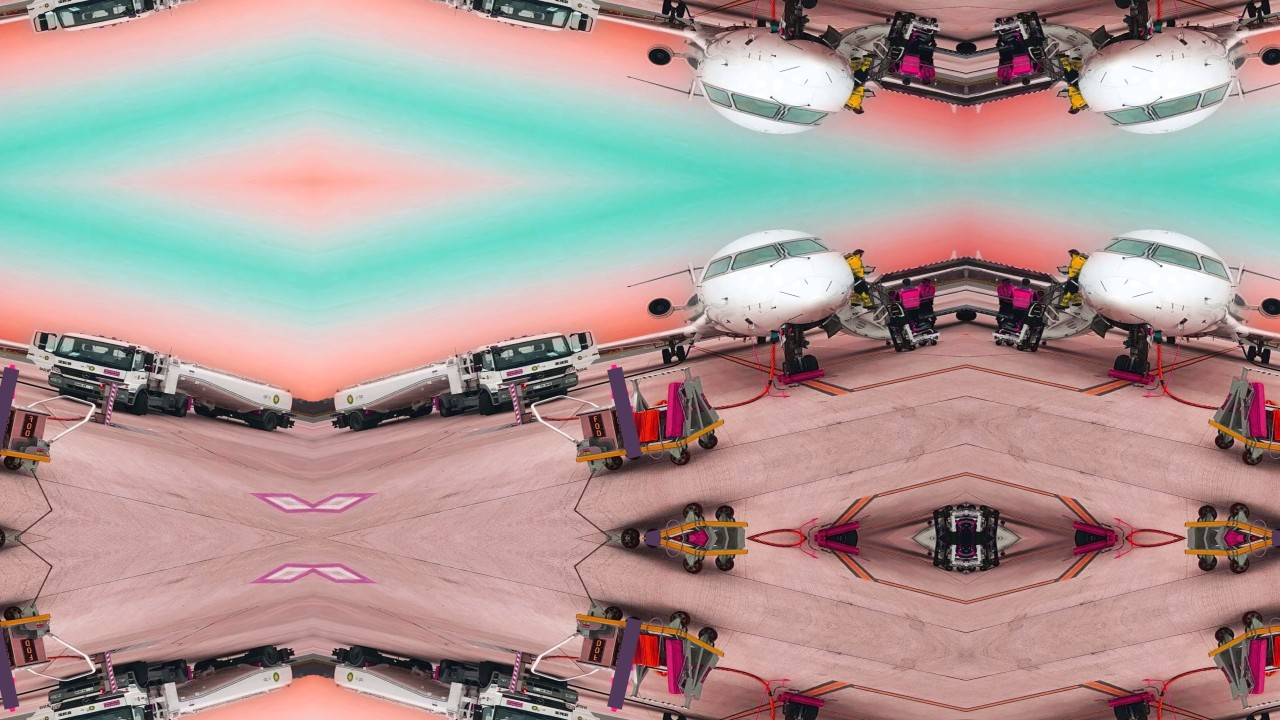chock: (653, 379, 698, 440), (1235, 379, 1280, 440), (653, 637, 698, 698), (1235, 637, 1280, 698), (616, 409, 648, 447), (616, 630, 648, 668), (633, 407, 665, 444), (633, 633, 665, 670), (1268, 407, 1280, 444), (1268, 633, 1280, 670), (0, 409, 10, 447), (0, 630, 10, 668)
wheel: (118, 387, 150, 417), (476, 387, 508, 417), (118, 660, 150, 690), (476, 660, 508, 690), (248, 408, 279, 434), (347, 408, 378, 434), (248, 643, 279, 669), (347, 643, 378, 669), (191, 400, 222, 419), (404, 400, 435, 419), (191, 658, 222, 677), (404, 658, 435, 677), (168, 394, 190, 418), (436, 394, 458, 418), (168, 659, 190, 683), (436, 659, 458, 683), (56, 387, 87, 404), (539, 387, 570, 404), (56, 673, 87, 690), (539, 673, 570, 690), (799, 352, 821, 374), (1112, 352, 1134, 374), (781, 356, 801, 378), (1132, 356, 1152, 378), (781, 699, 801, 720), (1132, 699, 1152, 720), (799, 703, 821, 720), (1112, 703, 1134, 720), (799, 0, 821, 11), (1112, 0, 1134, 11), (840, 538, 861, 548), (1072, 538, 1093, 548), (954, 40, 967, 55), (954, 308, 967, 323), (840, 529, 861, 538), (1072, 529, 1093, 538), (967, 40, 979, 55), (967, 308, 979, 323), (781, 0, 801, 7), (1132, 0, 1152, 7)
